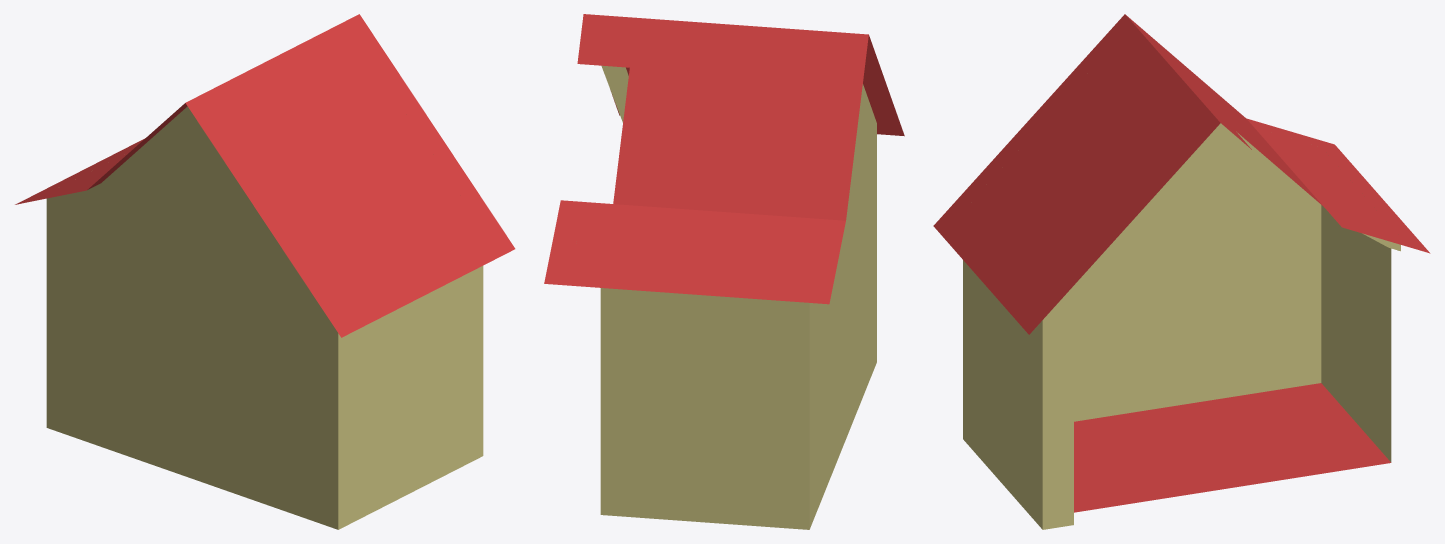
3 views of the same model, side by side, from view 1: azimuth 30°, elevation 25°; view 2: azimuth 150°, elevation 25°; view 3: azimuth 270°, elevation 25° (orthographic). The views are drawn at different scales.
Size of the model in its own units: 13.24 by 16.17 by 13.97.
